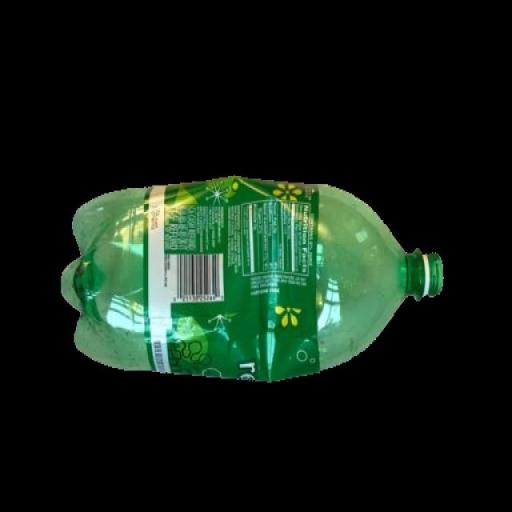plastic: (62, 180, 447, 376)
